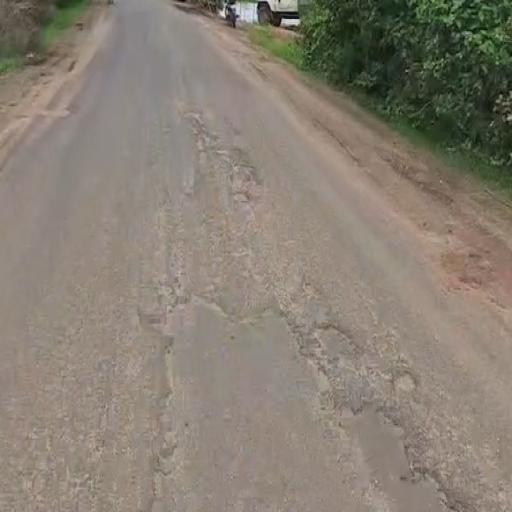ravelling: (101, 58, 468, 512)
